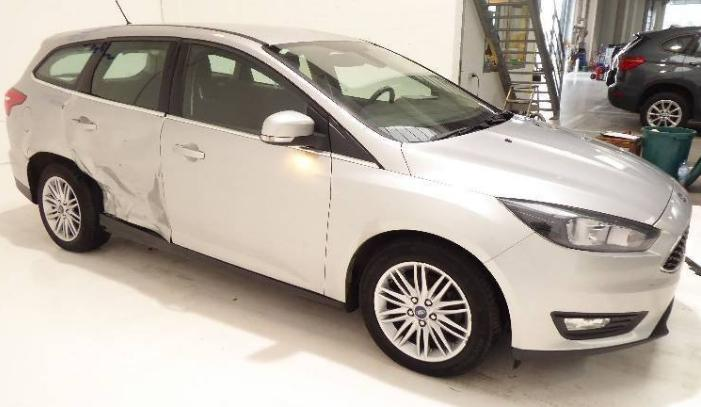Back-bumper: (8, 136, 31, 202)
Back-door: (63, 35, 181, 243)
Back-wheel: (37, 161, 111, 252)
Back-window: (91, 42, 177, 110), (35, 44, 98, 90)
Fender: (322, 152, 533, 305)
Front-bumper: (484, 179, 691, 350)
Front-door: (160, 39, 332, 294)
Front-wheel: (358, 239, 501, 376)
Front-window: (182, 45, 310, 135)
Grille: (664, 222, 689, 270)
Headlight: (496, 197, 659, 252)
Hood: (402, 114, 672, 226)
Mirror: (261, 111, 329, 150)
Quarter-panel: (6, 72, 75, 161)
Rocker-panel: (101, 213, 346, 312)
Roof: (42, 23, 363, 50)
Tail-light: (4, 87, 25, 118)
Windshield: (264, 41, 503, 143)
